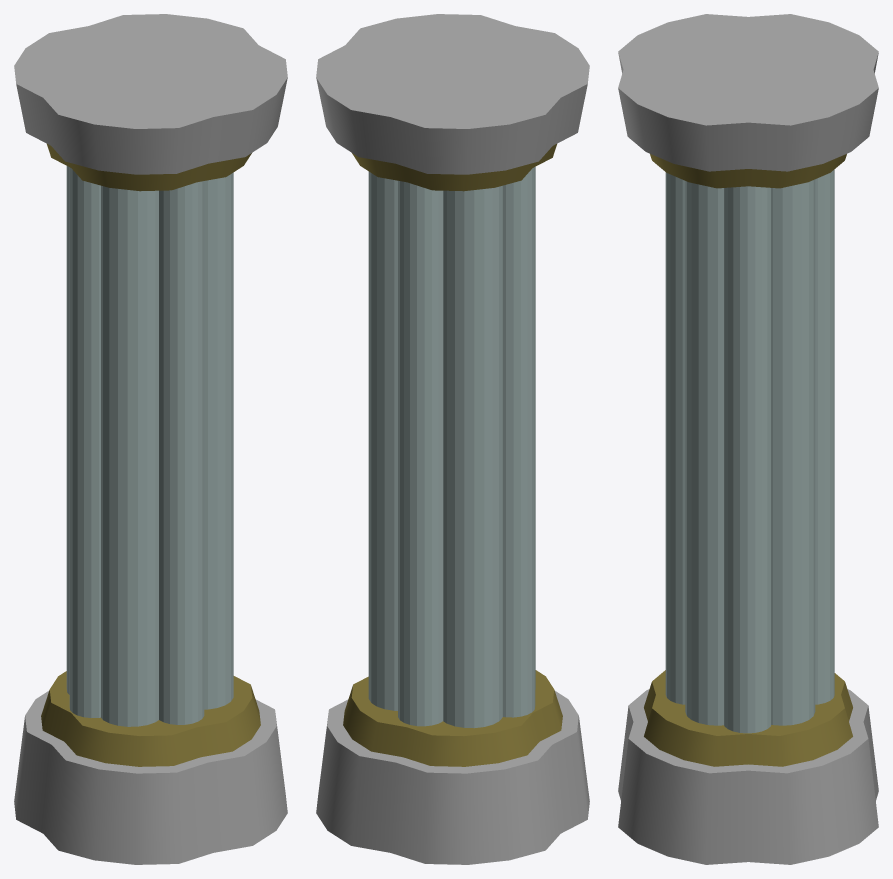
The model's file is Center Pillar Textured.fbx.
3 renders of one model, left to right at view 1: azimuth 30°, elevation 25°; view 2: azimuth 150°, elevation 25°; view 3: azimuth 270°, elevation 25°, orthographic.
Visible parts, largest first — view 1: Center_Pillar; view 2: Center_Pillar; view 3: Center_Pillar.
Boxes of the visible parts, box(x1,y1,x2,y2) form: Center_Pillar: box(14, 14, 287, 864); Center_Pillar: box(316, 14, 589, 864); Center_Pillar: box(618, 14, 878, 864).
Size of the model in its own units: 3.24 by 10.02 by 3.2.
